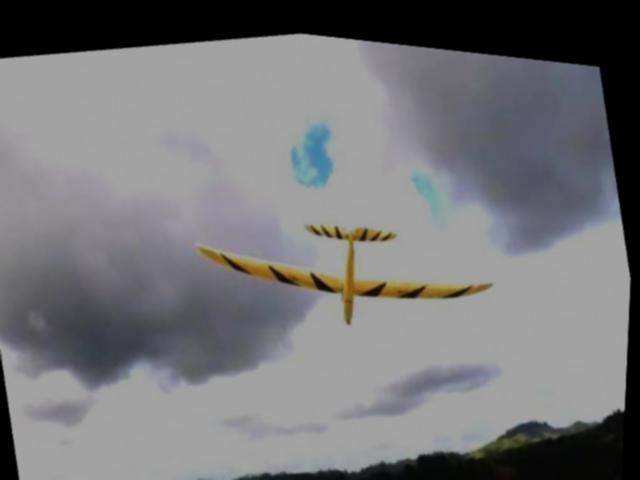iha: (178, 120, 511, 363)
